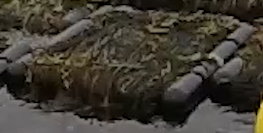bag: (7, 5, 255, 112)
